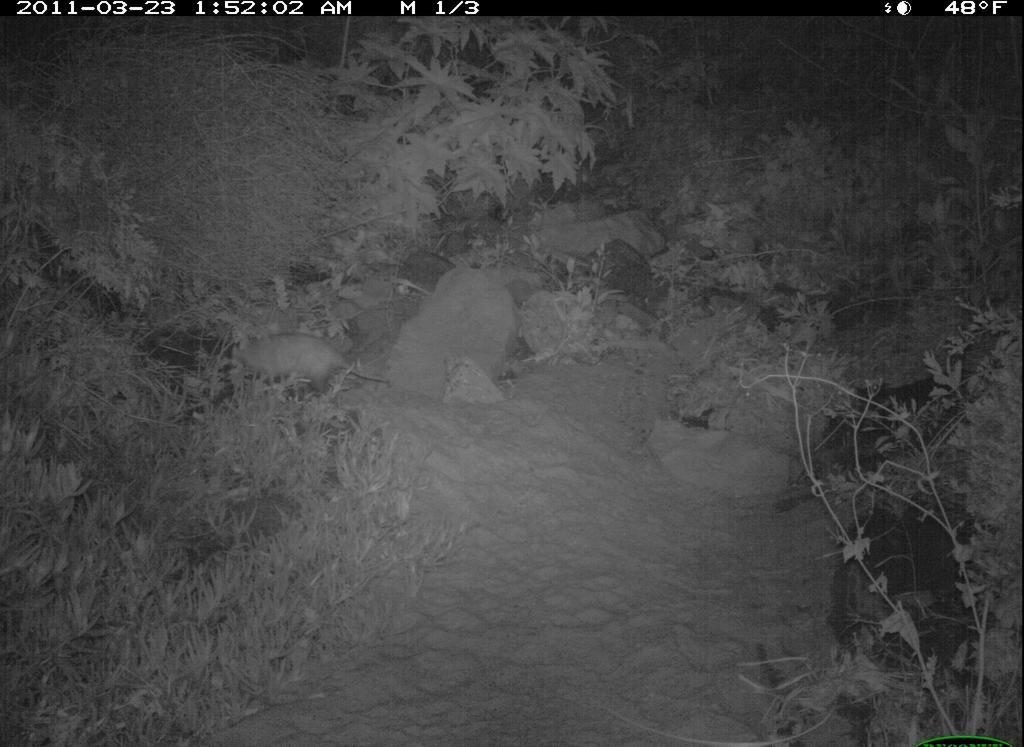opossum: (227, 327, 386, 405)
